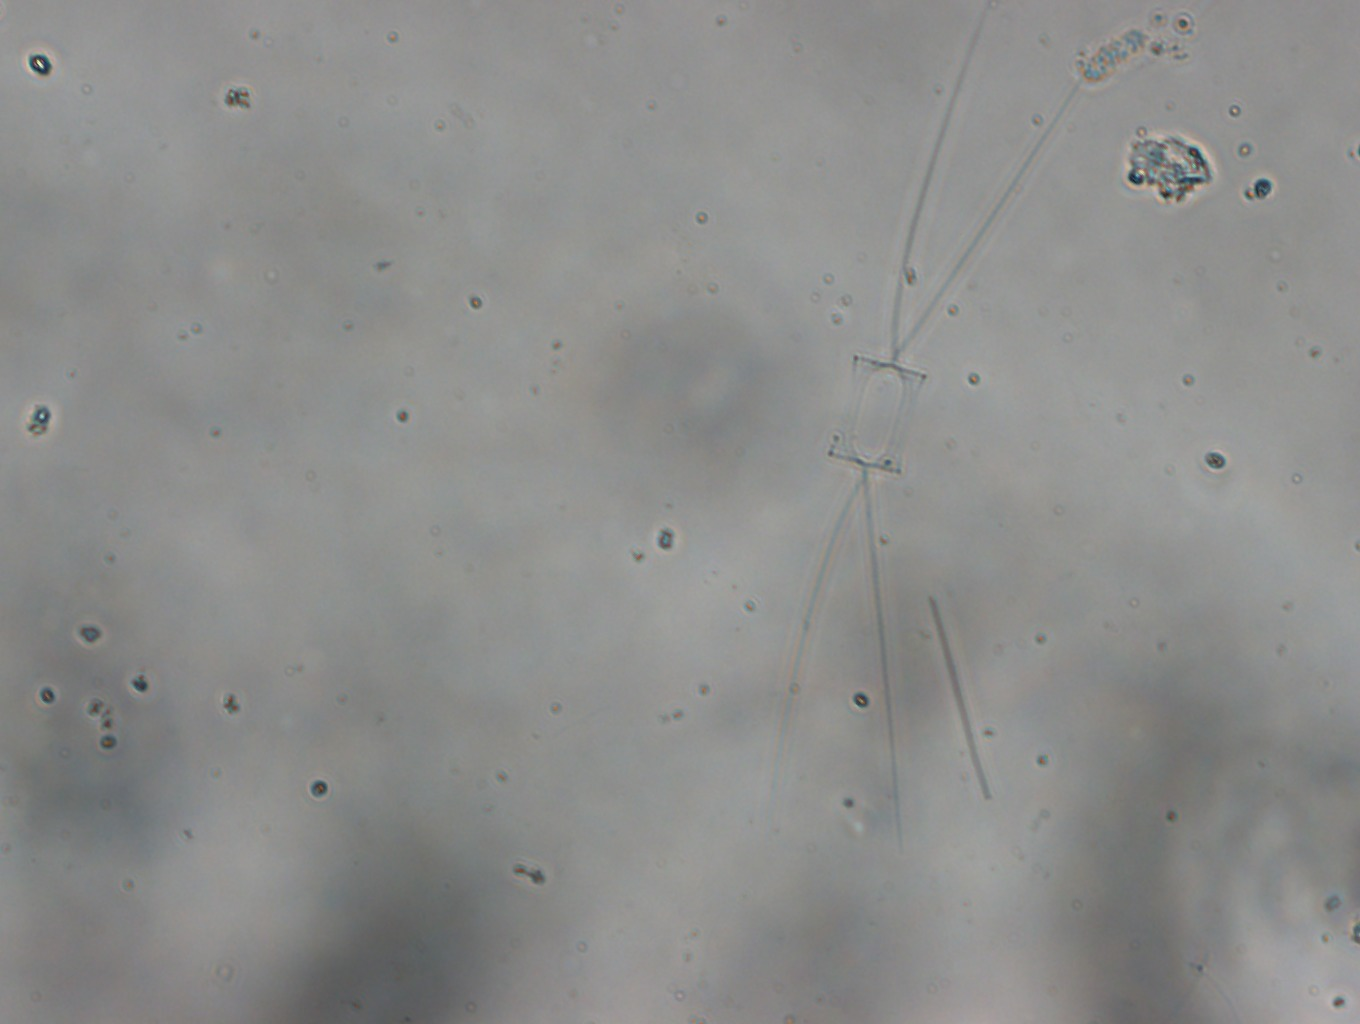chaetoceros: (796, 8, 1074, 895)
